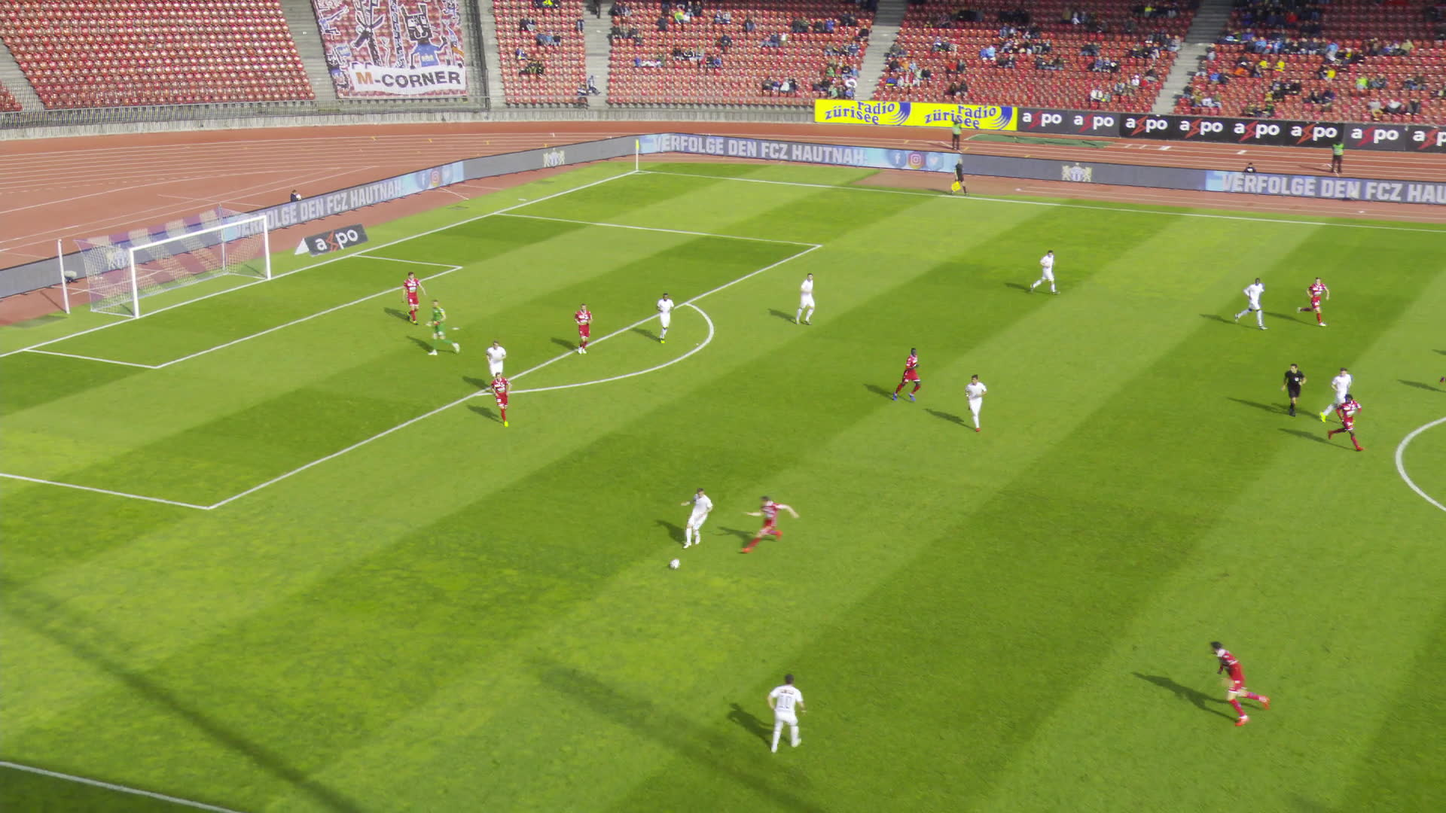ball: (672, 556, 682, 565)
player: (1203, 640, 1280, 723), (773, 675, 815, 755), (752, 495, 804, 551), (1329, 395, 1362, 452), (430, 300, 463, 355), (683, 487, 713, 545), (1322, 369, 1351, 426), (1298, 278, 1329, 328), (1235, 279, 1264, 331), (403, 273, 428, 327), (894, 349, 918, 402), (1031, 251, 1055, 297), (490, 371, 510, 425), (962, 376, 982, 428), (574, 305, 593, 355), (655, 294, 674, 343), (797, 275, 813, 326), (487, 341, 508, 375), (1440, 376, 1445, 383)
referee: (1283, 365, 1308, 416), (953, 160, 969, 196)
